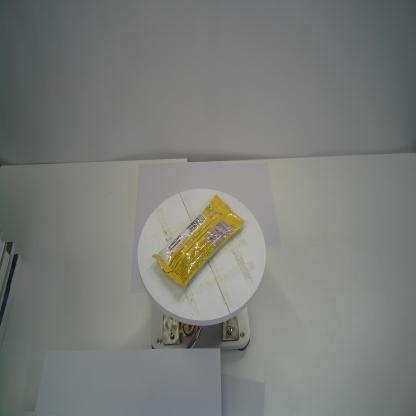Chocolate: (150, 194, 245, 288)
